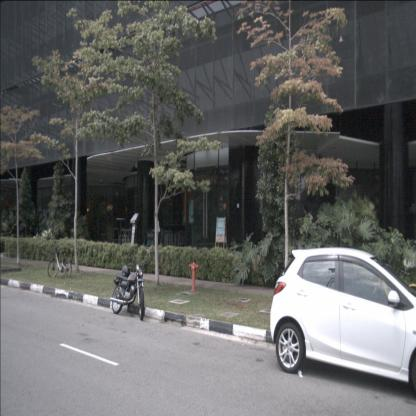human-pedestrian-adult: (300, 205, 313, 268), (373, 197, 382, 245), (154, 215, 160, 250)
vehicle-bicycle: (48, 235, 72, 280)
vehicle-car: (270, 248, 416, 398)
vehicle-motorcycle: (110, 259, 148, 320)
